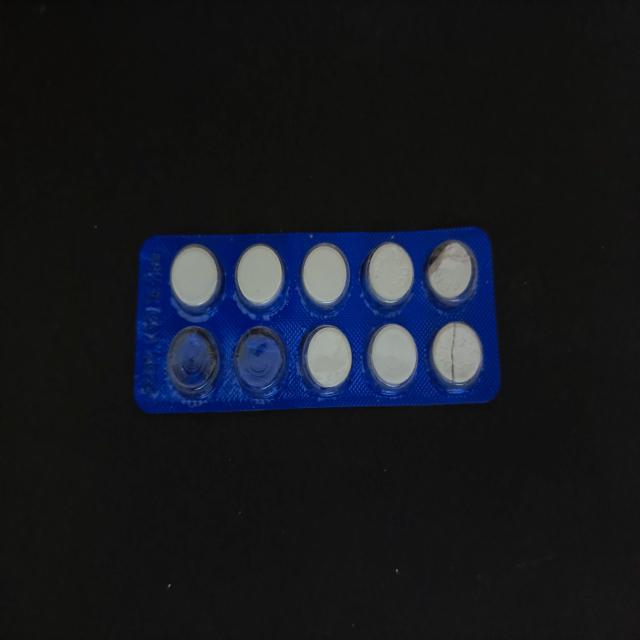defect: (426, 319, 486, 395), (231, 322, 288, 400), (166, 323, 222, 401), (423, 237, 480, 308)
